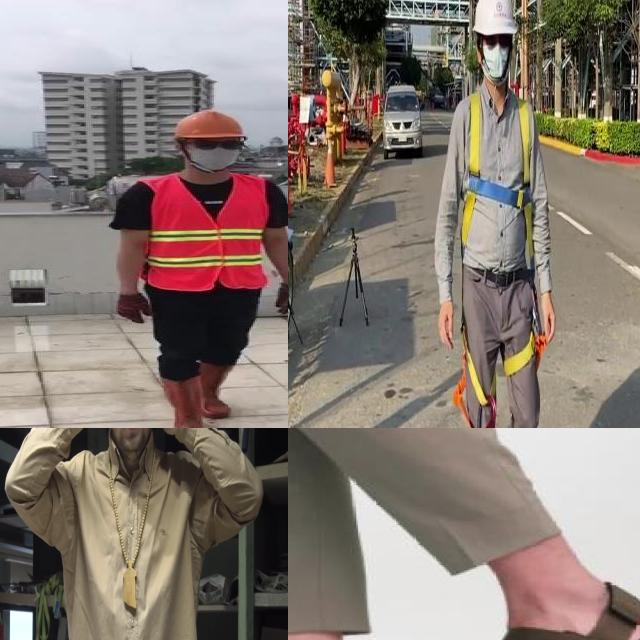Harness: (462, 90, 536, 270), (453, 326, 497, 428)
Sandals: (431, 541, 640, 640)
boots: (162, 377, 208, 428), (204, 364, 240, 419)
head_helmet: (168, 106, 250, 142)
person: (105, 107, 288, 428)
vest: (146, 175, 267, 290)
